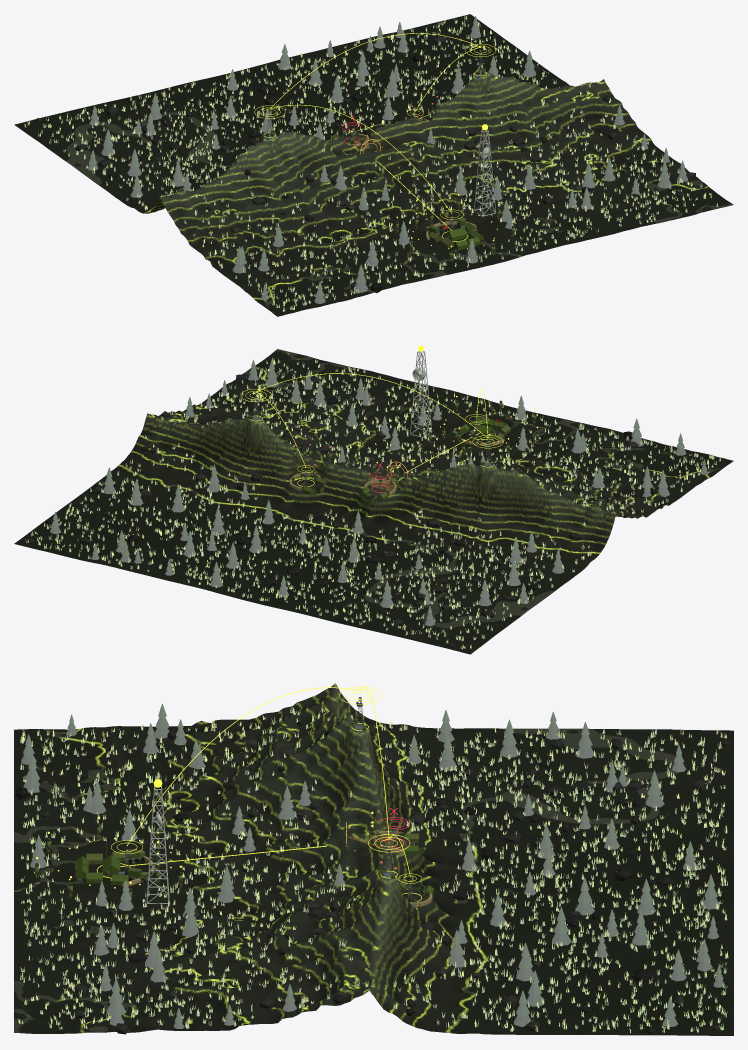
File: terrain_01_knife_edge_loc.glb
The picture shows the model from 3 angles, top to bottom: view 1: azimuth 30°, elevation 25°; view 2: azimuth 150°, elevation 25°; view 3: azimuth 270°, elevation 25°; orthographic projection. The views are drawn at different scales.
Visible parts, largest first — view 1: T01__terrain_01_knife_edge_loc, T01__VEG_grass, T01__VEG_trees, T01__VEG_rocks, T01__PROP_lime, T01__DET_lattice_tower.001, T01__PROP_canvas; view 2: T01__terrain_01_knife_edge_loc, T01__VEG_grass, T01__VEG_trees, T01__VEG_rocks, T01__PROP_lime, T01__DET_lattice_tower.001, T01__PROP_canvas; view 3: T01__terrain_01_knife_edge_loc, T01__VEG_grass, T01__VEG_trees, T01__VEG_rocks, T01__PROP_lime, T01__PROP_canvas, T01__DET_lattice_tower.001, T01__PROP_canvas2, T01__PROP_steel.
Boxes of the visible parts, left/top/right/bottom form: T01__terrain_01_knife_edge_loc: left=14, top=14, right=733, bottom=316; T01__VEG_grass: left=24, top=15, right=717, bottom=311; T01__VEG_trees: left=87, top=16, right=687, bottom=303; T01__VEG_rocks: left=35, top=19, right=695, bottom=292; T01__PROP_lime: left=254, top=33, right=495, bottom=241; T01__DET_lattice_tower.001: left=474, top=129, right=495, bottom=216; T01__PROP_canvas: left=349, top=121, right=483, bottom=249; T01__terrain_01_knife_edge_loc: left=14, top=349, right=733, bottom=654; T01__VEG_grass: left=25, top=352, right=720, bottom=649; T01__VEG_trees: left=50, top=359, right=708, bottom=625; T01__VEG_rocks: left=28, top=371, right=658, bottom=647; T01__PROP_lime: left=240, top=373, right=503, bottom=486; T01__DET_lattice_tower.001: left=410, top=351, right=432, bottom=437; T01__PROP_canvas: left=302, top=417, right=507, bottom=496; T01__terrain_01_knife_edge_loc: left=14, top=683, right=733, bottom=1035; T01__VEG_grass: left=18, top=706, right=728, bottom=1032; T01__VEG_trees: left=21, top=703, right=724, bottom=1028; T01__VEG_rocks: left=15, top=720, right=729, bottom=1034; T01__PROP_lime: left=96, top=686, right=421, bottom=902; T01__PROP_canvas: left=76, top=845, right=434, bottom=896; T01__DET_lattice_tower.001: left=146, top=786, right=169, bottom=903; T01__PROP_canvas2: left=86, top=725, right=424, bottom=891; T01__PROP_steel: left=105, top=697, right=427, bottom=902.
Size of the model in its own units: 100 by 27.41 by 100.
Materials: 23 (1 with a texture image).
